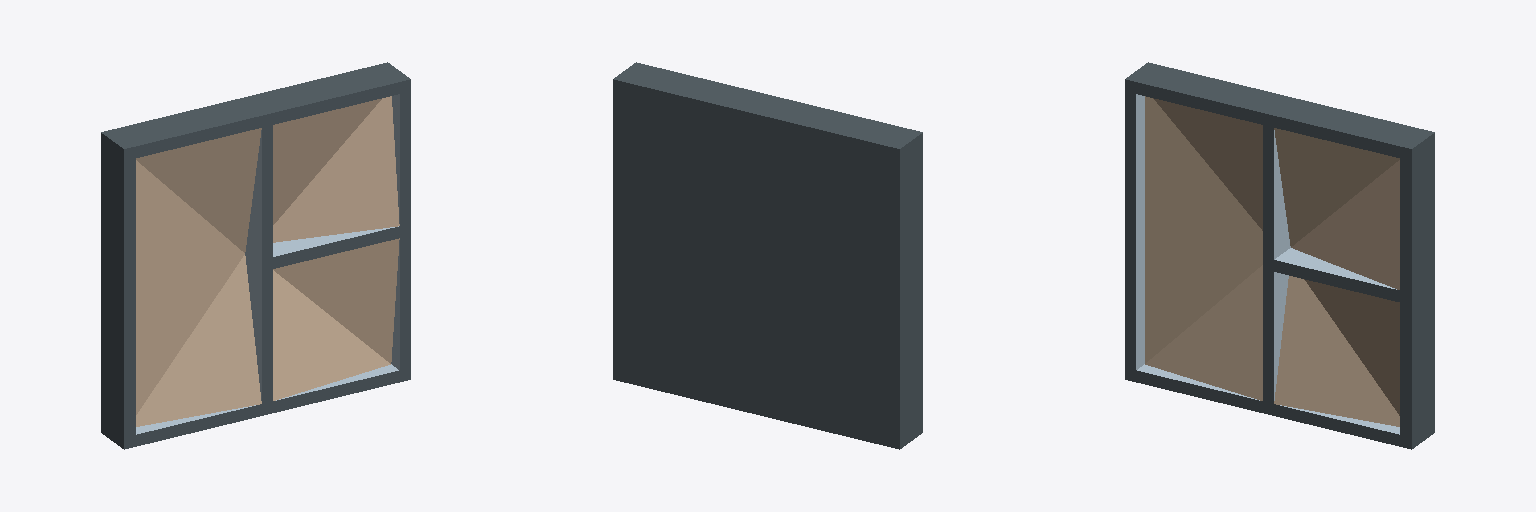
The model's file is link_eval_bowl_body.obj.
3 views of the same model, side by side, from view 1: azimuth 30°, elevation 25°; view 2: azimuth 150°, elevation 25°; view 3: azimuth 330°, elevation 25° (orthographic).
Parts seen in each view (by area): view 1: Mesh1 Model; view 2: Mesh1 Model; view 3: Mesh1 Model.
Boxes of the visible parts, x1,y1,x2,y2 form: Mesh1 Model: [101, 62, 410, 449]; Mesh1 Model: [613, 62, 922, 449]; Mesh1 Model: [1125, 62, 1434, 449].
Bounding box in the file's own units: 2.5 × 2.5 × 0.35.